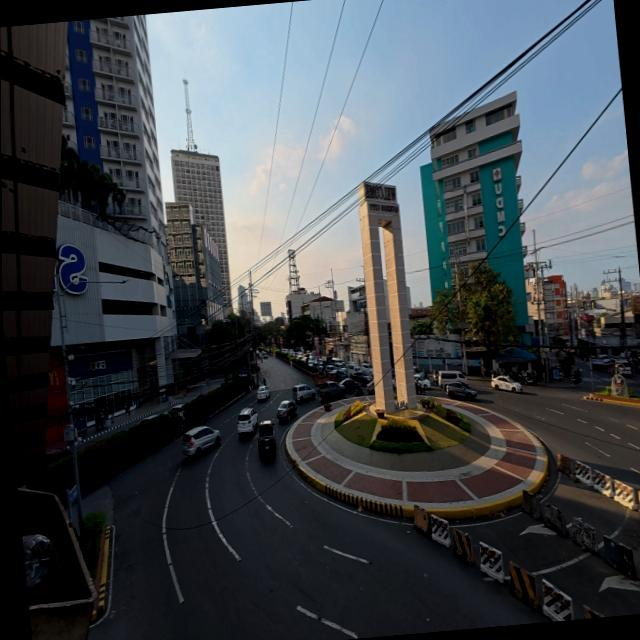car: (181, 426, 220, 456), (445, 381, 477, 401), (237, 407, 257, 436), (317, 381, 344, 401), (491, 376, 521, 392), (276, 401, 296, 422), (44, 448, 70, 464), (338, 379, 359, 393), (167, 404, 184, 421), (414, 374, 430, 389), (352, 371, 368, 385), (138, 414, 158, 425), (325, 366, 338, 381), (256, 386, 269, 400), (335, 368, 348, 381), (366, 380, 374, 394), (307, 358, 314, 367), (392, 377, 395, 389), (262, 353, 267, 359), (257, 363, 260, 371)
motorcycle: (571, 369, 582, 385), (523, 374, 535, 386), (414, 382, 424, 395), (354, 386, 363, 397)
trucks: (257, 421, 275, 456)
vans: (438, 371, 467, 388), (292, 384, 314, 402), (615, 360, 630, 376), (347, 362, 358, 377)
